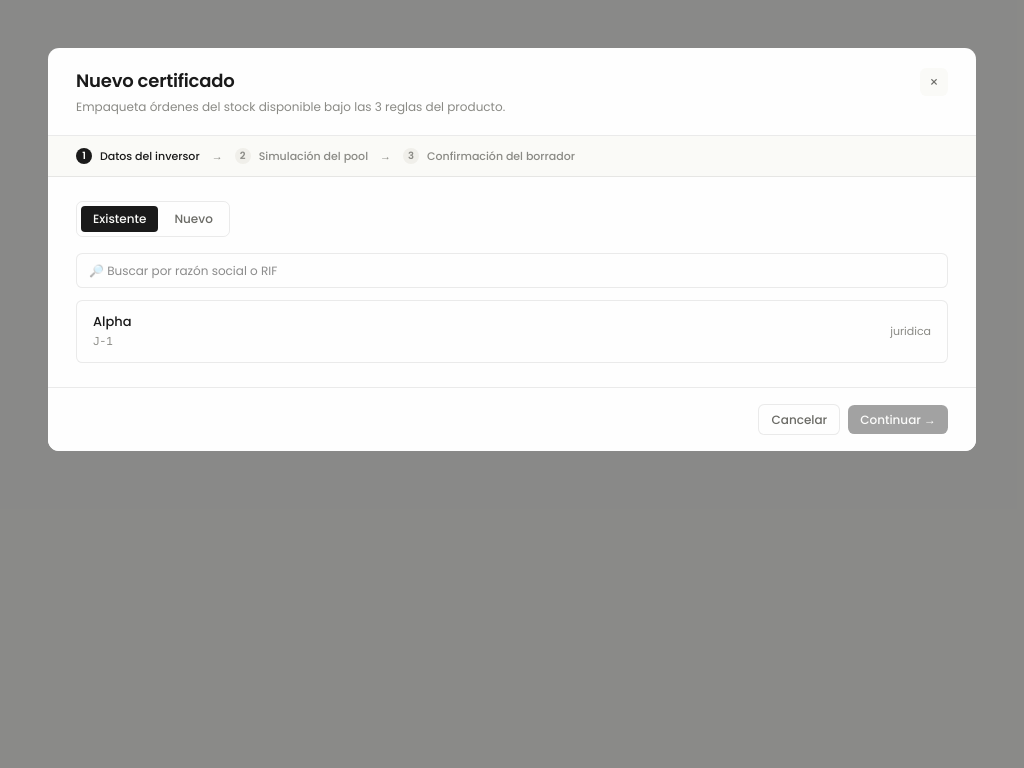
it: <NewCertWizard /> › selecting an investor advances to Step 2
Click the text "Alpha".
click(112, 323)  # box [93,313,132,332]
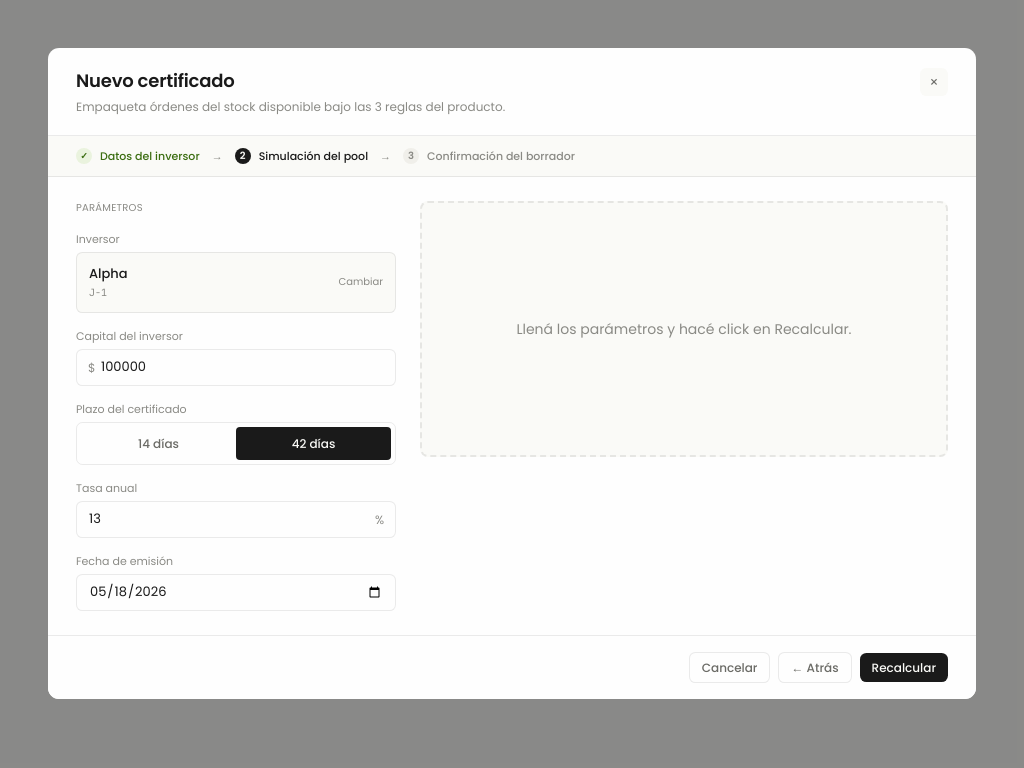
Check: the text "Llená los parámetros y hacé click en Recalcular." is shown, box [516,320,852,340]
